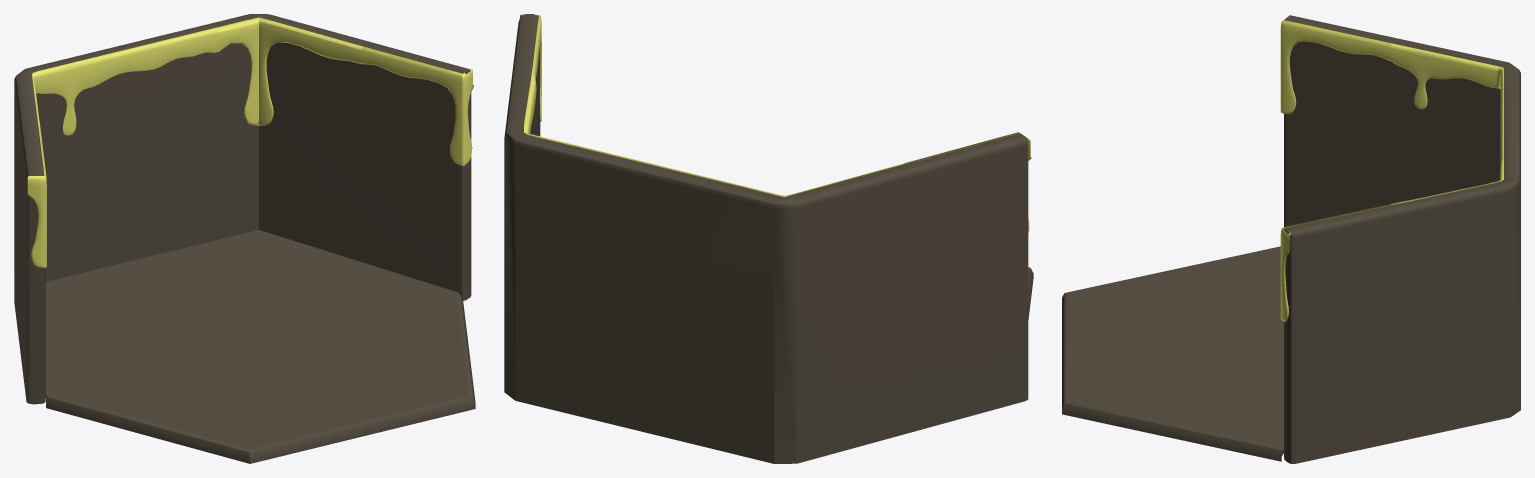
Rendered from HoneyCombModular2.fbx.
3 views of the same model, side by side, from view 1: azimuth 30°, elevation 25°; view 2: azimuth 150°, elevation 25°; view 3: azimuth 270°, elevation 25° (orthographic). The views are drawn at different scales.
Parts seen in each view (by area): view 1: HoneyComb_wallAngle11, Floor9, Honey3_Honey1part1; view 2: HoneyComb_wallAngle11, Honey3_Honey1part1; view 3: HoneyComb_wallAngle11, Floor9, Honey3_Honey1part1.
Part boxes in pixels (left/top/right/bottom): HoneyComb_wallAngle11: left=14, top=14, right=471, bottom=404; Floor9: left=45, top=230, right=475, bottom=463; Honey3_Honey1part1: left=27, top=17, right=473, bottom=268; HoneyComb_wallAngle11: left=504, top=14, right=1028, bottom=463; Honey3_Honey1part1: left=520, top=14, right=1031, bottom=232; HoneyComb_wallAngle11: left=1284, top=15, right=1520, bottom=463; Floor9: left=1062, top=246, right=1283, bottom=461; Honey3_Honey1part1: left=1280, top=17, right=1503, bottom=321.
Bounding box in the file's own units: 4.76 × 2.36 × 4.18.
